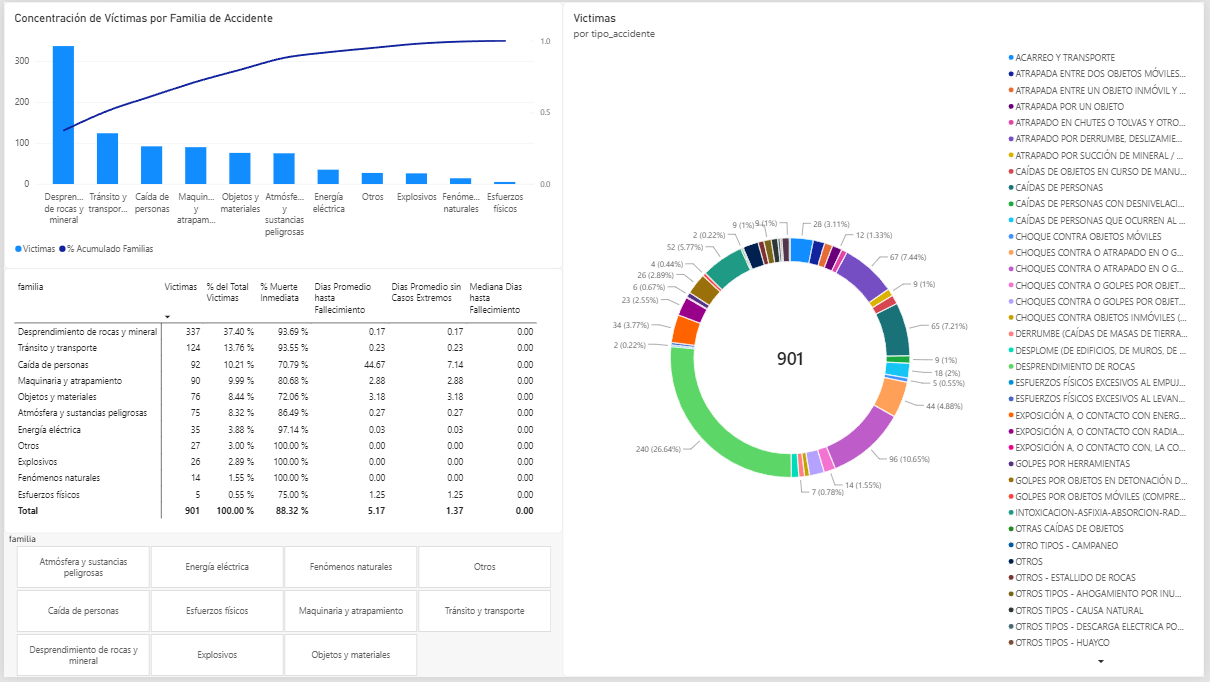

The dashboard page shown, as its layout file describes it:
{"tool":"powerbi","page":{"name":"Tipos de Accidente","canvas":[1920,1080],"ordinal":1},"visuals":[{"type":"lineClusteredColumnComboChart","title":"Concentración de Víctimas por Familia de Accidente","fields":{"Category":["dim_tipo.familia"],"Y":["fact_accidente.Victimas"],"Y2":["fact_accidente.% Acumulado Familias"]},"box":[0,0,894,426],"z":0},{"type":"pivotTable","fields":{"Rows":["dim_tipo.familia"],"Values":["fact_accidente.Victimas","fact_accidente.% del Total Victimas","fact_accidente.% Muerte Inmediata","fact_accidente.Dias Promedio hasta Fallecimiento","fact_accidente.Dias Promedio sin Casos Extremos","fact_accidente.Mediana Dias hasta Fallecimiento"]},"box":[0,426,894,424],"z":1000},{"type":"donutChart","fields":{"Category":["dim_tipo.tipo_accidente"],"Y":["fact_accidente.Victimas"]},"box":[894,0,1026,1080],"z":2000},{"type":"slicer","fields":{"Values":["dim_tipo.familia"]},"box":[0,850,894,230],"z":3000}]}

Visuals, with their boxes in screenshot pixels (x1, y1, x2, y2), scaled from the page's 1920x1080 canvas onto the 1210x682 screenshot:
"Concentración de Víctimas por Familia de Accidente" lineClusteredColumnComboChart: bbox(0, 0, 563, 269)
pivotTable - dim_tipo.familia x fact_accidente.Victimas: bbox(0, 269, 563, 537)
donutChart - dim_tipo.tipo_accidente x fact_accidente.Victimas: bbox(563, 0, 1209, 681)
slicer - dim_tipo.familia: bbox(0, 537, 563, 681)
